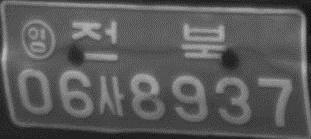0: (16, 68, 53, 116)
3: (213, 76, 253, 126)
6: (58, 70, 94, 119)
7: (257, 76, 293, 128)
8: (129, 72, 166, 120)
9: (170, 74, 209, 122)
사: (98, 75, 125, 115)
영: (19, 18, 56, 60)
전북_D: (69, 20, 227, 63)
